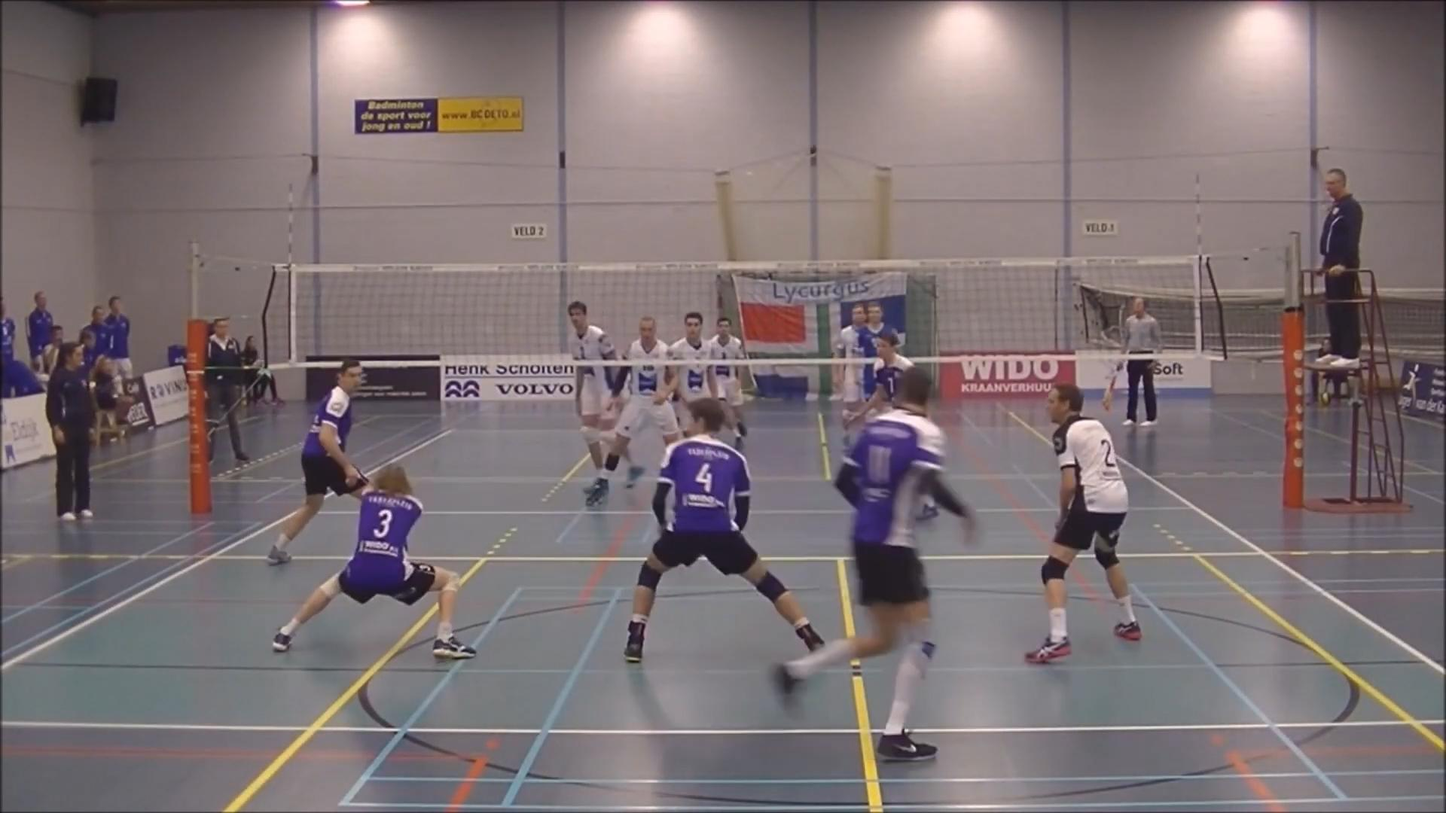Player: (774, 368, 975, 760), (624, 398, 823, 662), (1026, 384, 1141, 662), (267, 359, 366, 564), (586, 317, 679, 505), (567, 301, 616, 472), (844, 333, 913, 431), (668, 312, 716, 425), (834, 303, 867, 417), (714, 364, 746, 449), (860, 302, 896, 358)
Receive: (261, 462, 485, 665)
